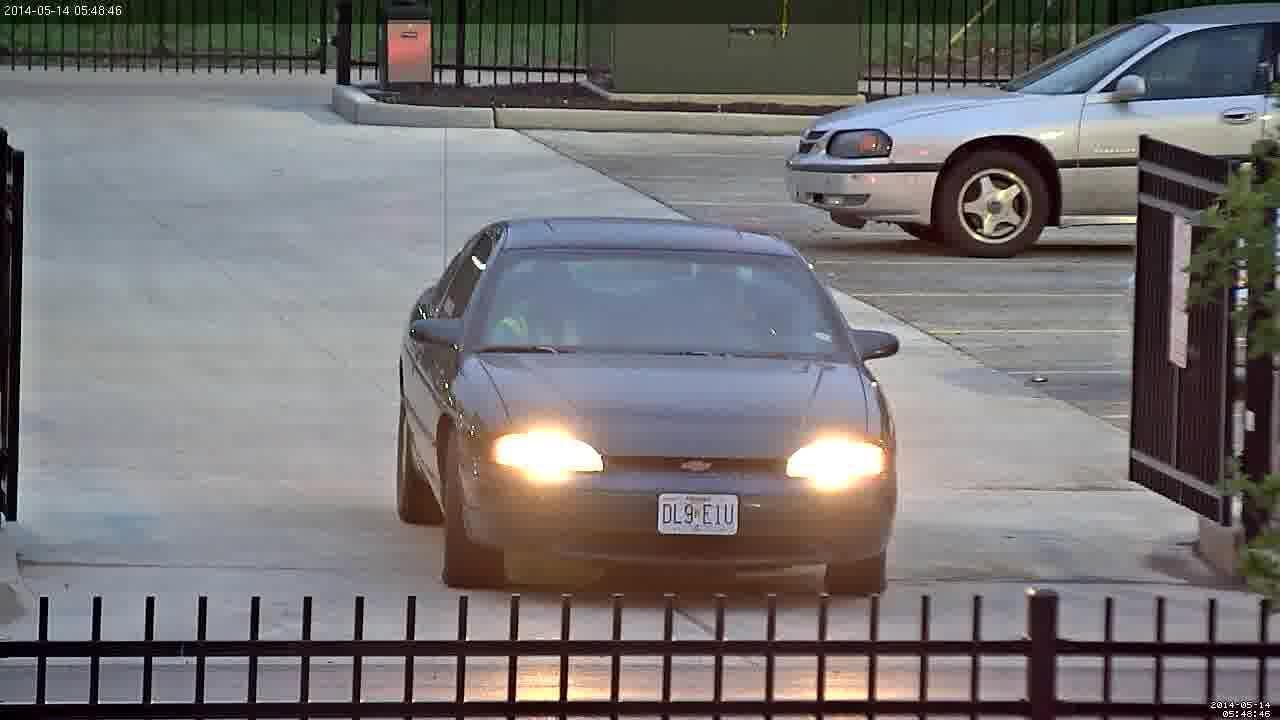placa de veiculo: (643, 479, 749, 546)
